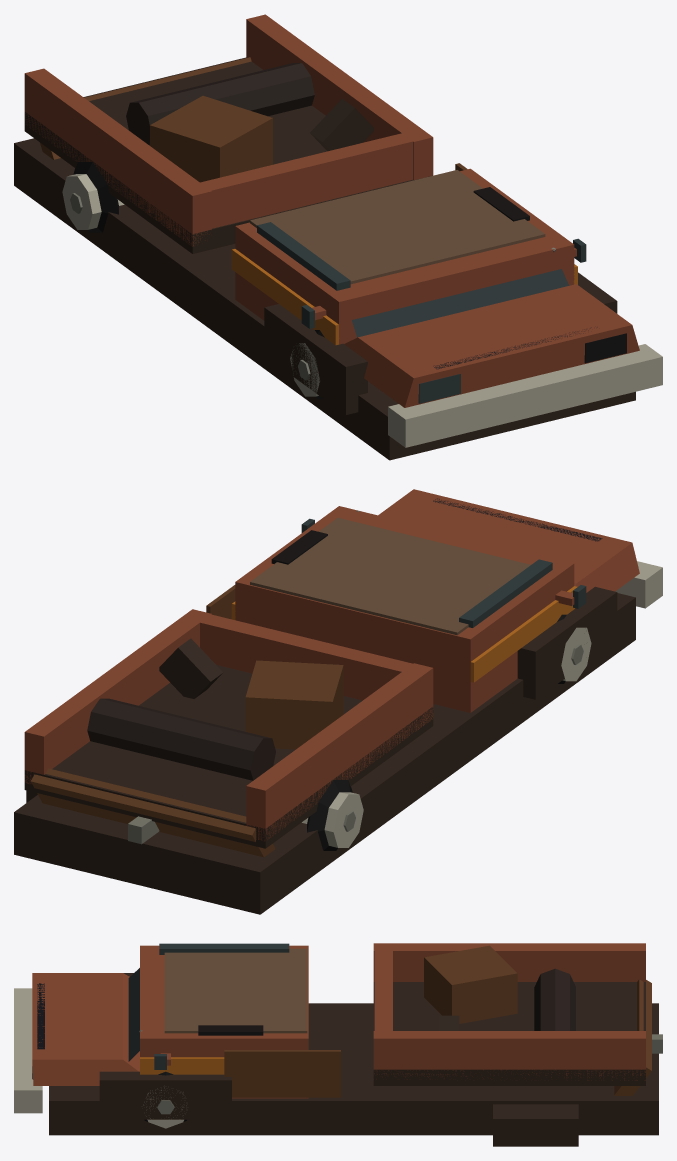
File: wreck-truck.glb
The picture shows the model from 3 angles, top to bottom: view 1: azimuth 30°, elevation 25°; view 2: azimuth 150°, elevation 25°; view 3: azimuth 270°, elevation 25°; orthographic projection. The views are drawn at different scales.
Parts seen in each view (by area): view 1: WreckTruck; view 2: WreckTruck; view 3: WreckTruck.
Part boxes in pixels (left/top/right/bottom): WreckTruck: left=14, top=14, right=662, bottom=460; WreckTruck: left=14, top=489, right=662, bottom=914; WreckTruck: left=14, top=943, right=662, bottom=1146.
Size of the model in its own units: 2.16 by 0.8997 by 5.
